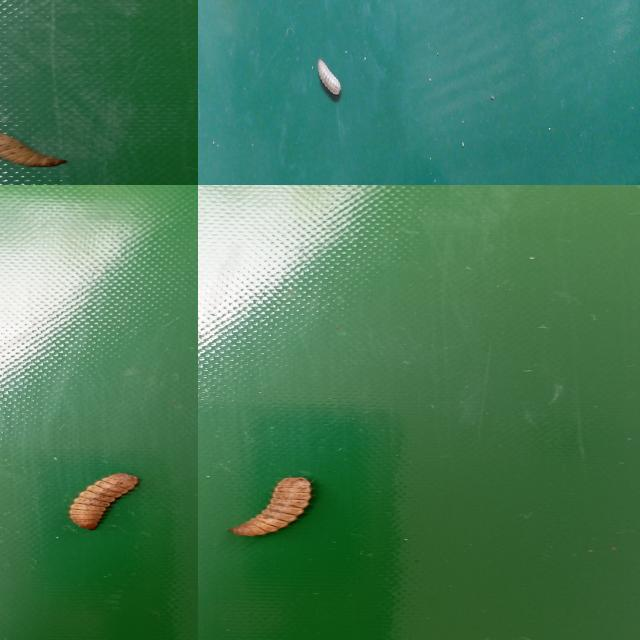Maggot: (231, 478, 316, 540), (68, 474, 140, 532), (0, 130, 66, 171), (315, 61, 342, 101)
